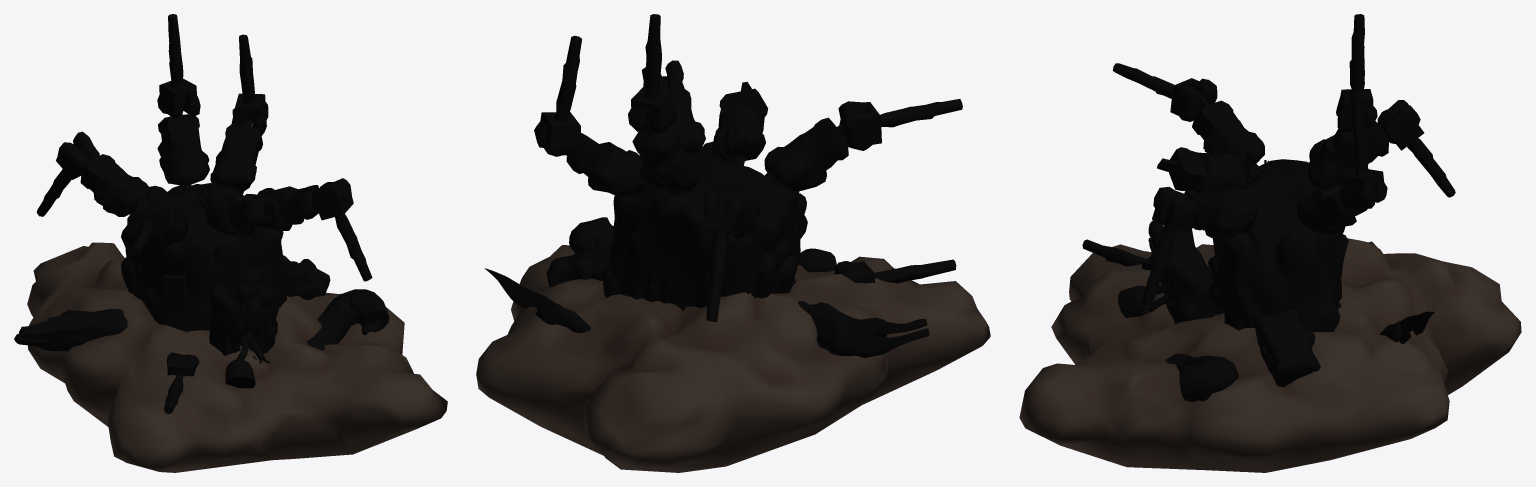
File: env_burntforest_meltedbot05.fbx
3 views of the same model, side by side, from view 1: azimuth 30°, elevation 25°; view 2: azimuth 150°, elevation 25°; view 3: azimuth 270°, elevation 25° (orthographic). The views are drawn at different scales.
Parts seen in each view (by area): view 1: env_forest_meltedbot05; view 2: env_forest_meltedbot05; view 3: env_forest_meltedbot05.
Boxes of the visible parts, bbox=[...] form: env_forest_meltedbot05: bbox=[14, 14, 447, 472]; env_forest_meltedbot05: bbox=[476, 14, 990, 472]; env_forest_meltedbot05: bbox=[1019, 14, 1521, 472].
Bounding box in the file's own units: 20.19 × 20.6 × 22.05.
